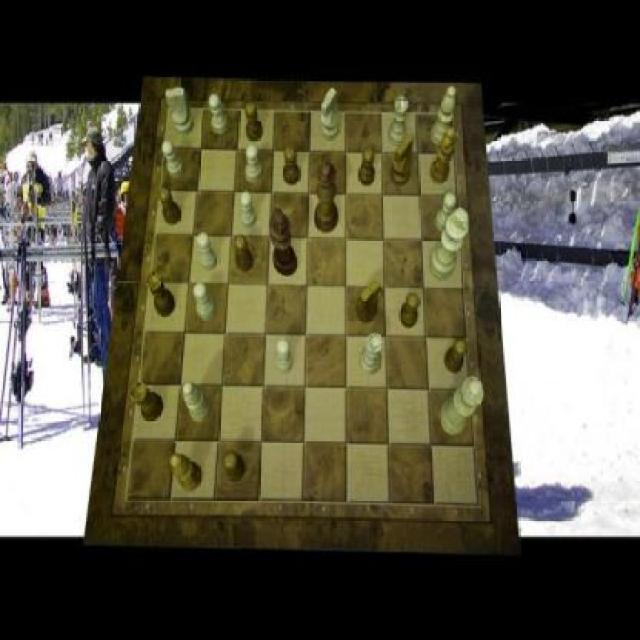bishop: (431, 126, 457, 184), (170, 454, 202, 492)
black-bishop: (270, 209, 298, 277)
black-king: (391, 134, 414, 186), (356, 280, 380, 322)
black-knight: (158, 186, 182, 224), (444, 338, 468, 374), (234, 235, 254, 273), (400, 292, 420, 328), (224, 451, 246, 483), (358, 148, 376, 186), (245, 103, 262, 143), (283, 146, 300, 184)
black-pawn: (314, 161, 338, 234)
black-queen: (131, 383, 164, 423), (147, 271, 176, 316)
black-rook: (431, 86, 457, 146), (183, 383, 212, 423)
white-bishop: (429, 208, 469, 280)
white-king: (164, 89, 193, 137), (322, 88, 339, 140)
white-knight: (435, 194, 458, 232), (161, 140, 184, 178), (194, 283, 216, 321), (209, 94, 229, 134), (197, 234, 217, 272), (275, 338, 293, 374), (240, 191, 257, 228), (246, 145, 262, 182)
white-pawn: (440, 377, 485, 437)
white-queen: (388, 97, 408, 146), (360, 334, 383, 376)
